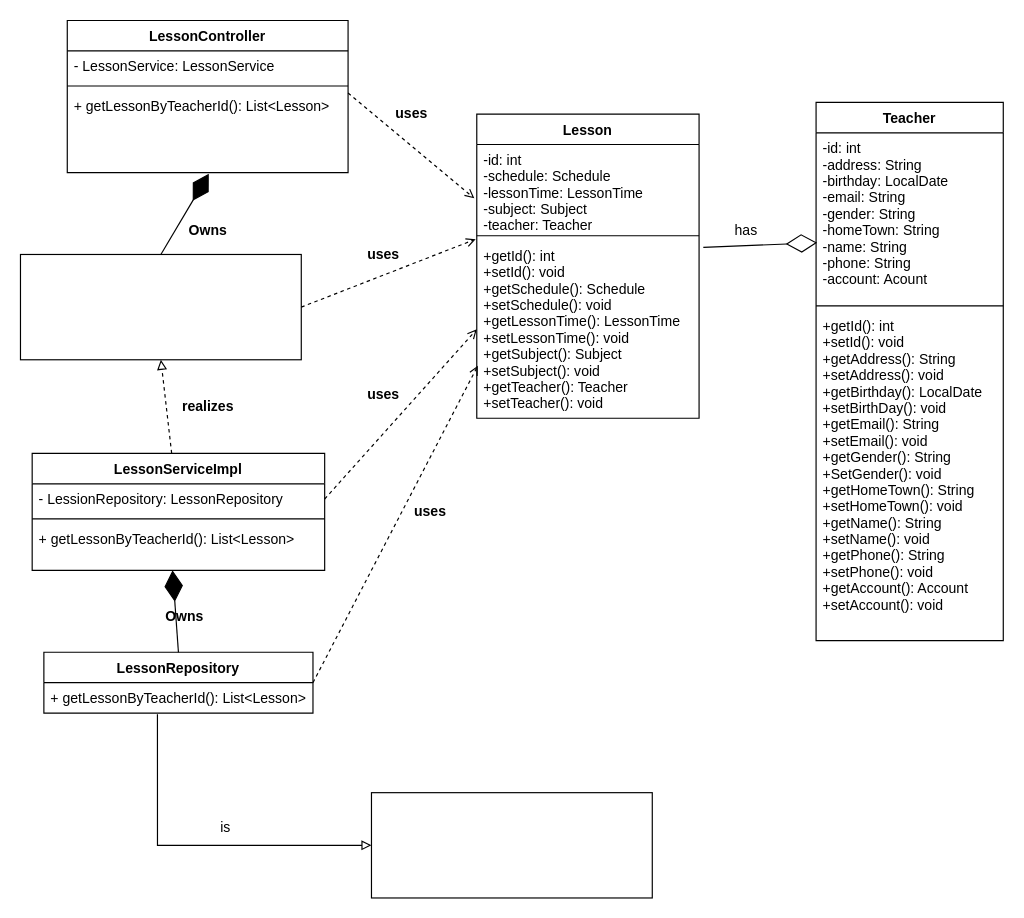
Image size: 1024x918. Some labels were removed from this diagram. The centre of each missing label's shape, as x and y in pixels:
"<<Interface>> JpaRepository" belongs at point (511, 845).
"<<Interface>> LessonService + getLessonByTeacherId(): List<Lesson>" belongs at point (160, 306).
